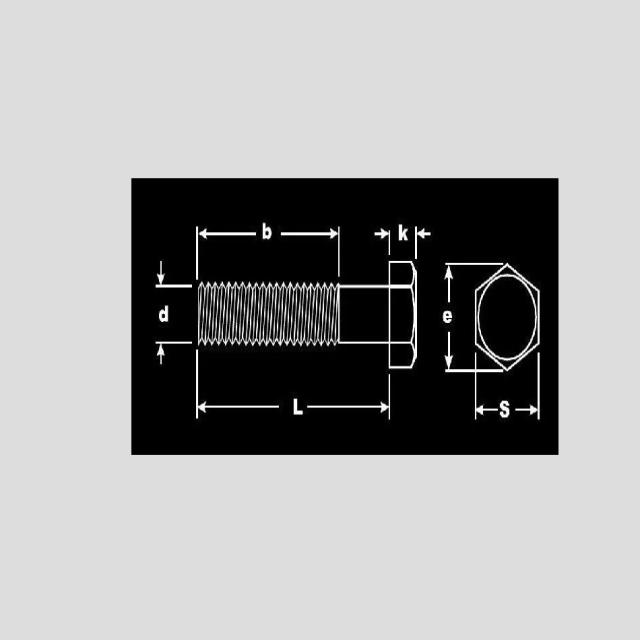marking_line: (195, 349, 281, 420), (305, 373, 391, 421), (279, 224, 341, 279), (194, 226, 256, 280), (515, 364, 541, 421), (441, 331, 474, 373), (444, 262, 474, 304), (155, 260, 193, 290), (475, 374, 499, 421), (156, 340, 193, 367), (531, 351, 542, 421), (441, 358, 491, 371), (413, 226, 432, 260), (374, 227, 392, 256), (441, 263, 504, 267)
